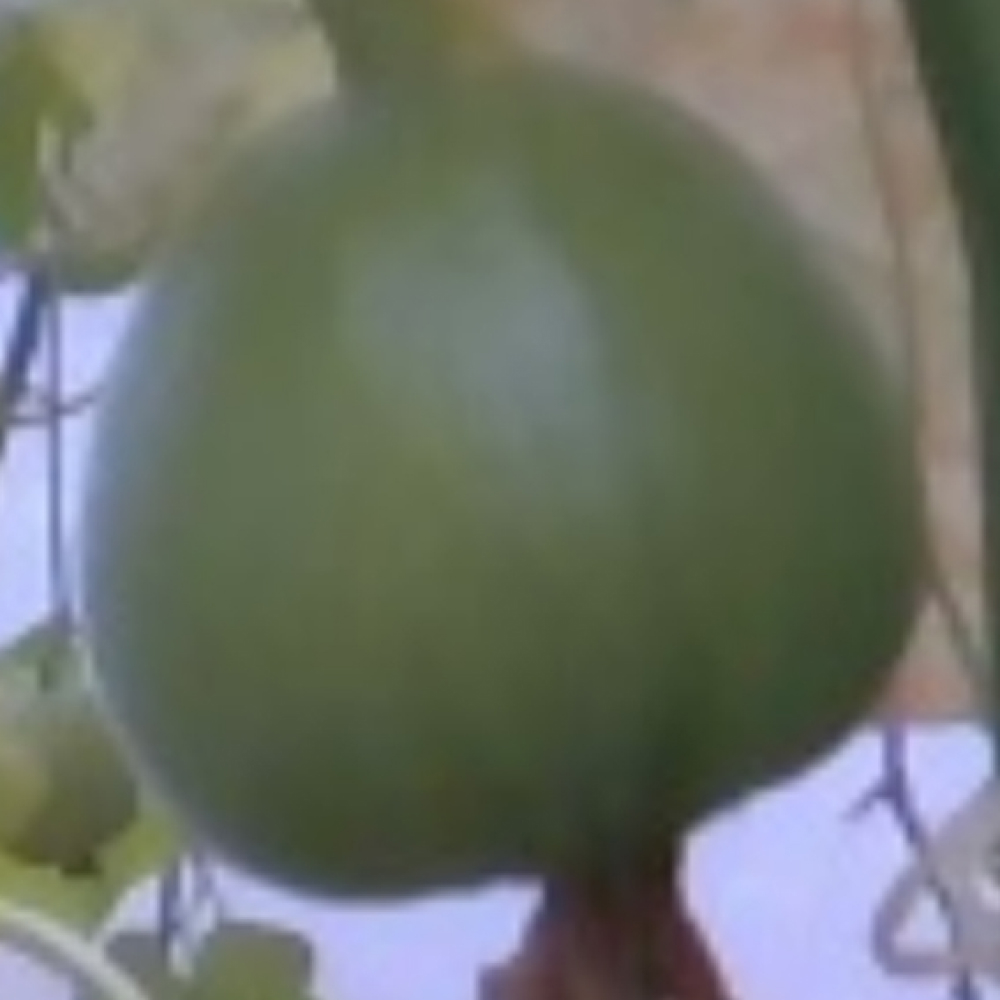melon: (79, 59, 933, 911)
